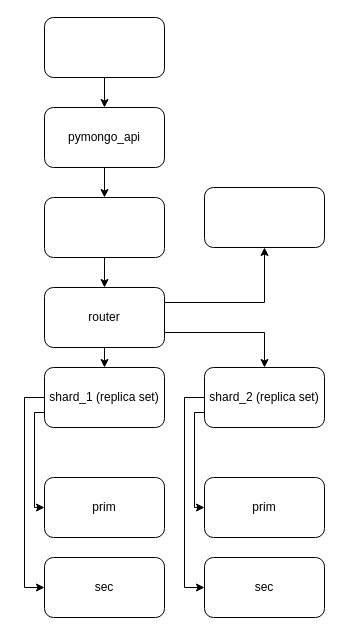
Some shapes in this 342 by 635 pixel diagram are drawn without their labels. The shapes that lost their labels are listed below. From the top down, each one's centre as x and y in pixels, then its label:
(x=104, y=47): Клиент
(x=104, y=227): Redis (cache)]
(x=264, y=217): configSrv
